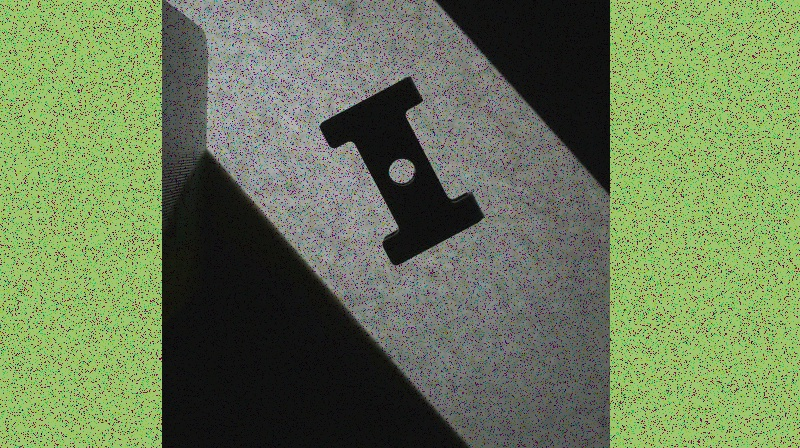O002: (315, 74, 485, 268)
